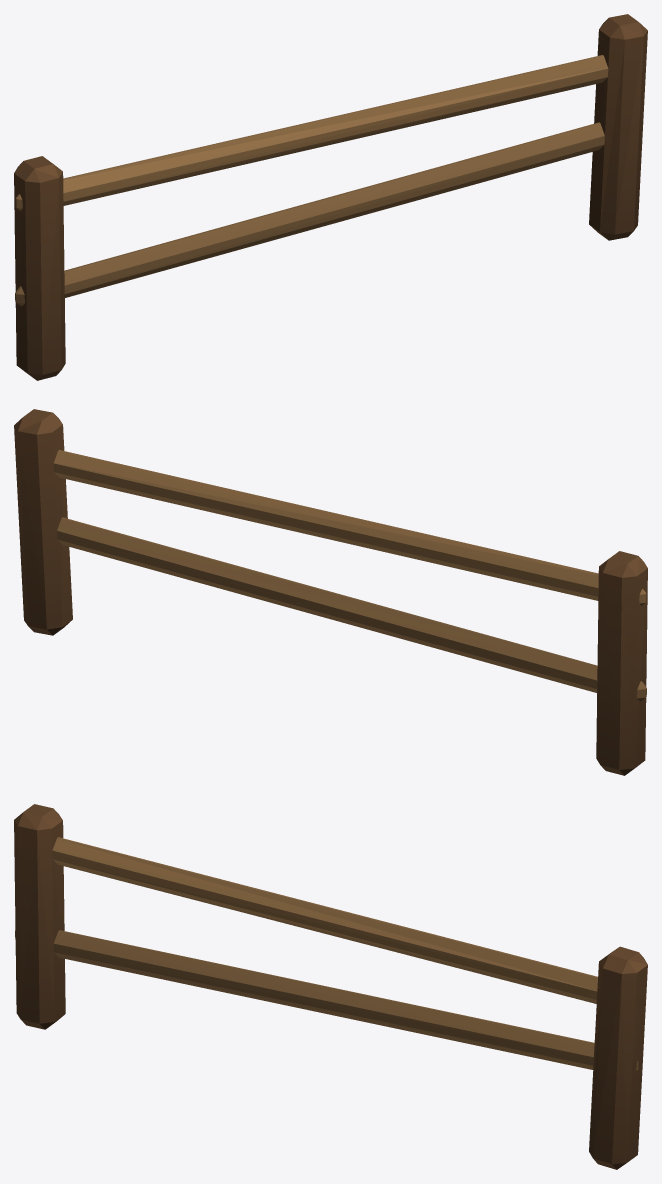
File: fence.glb
The picture shows the model from 3 angles, top to bottom: view 1: azimuth 30°, elevation 25°; view 2: azimuth 150°, elevation 25°; view 3: azimuth 330°, elevation 25°; orthographic projection.
Visible parts, largest first — view 1: fence; view 2: fence; view 3: fence.
Boxes of the visible parts, x1=… form: fence: x1=14, y1=14, x2=647, y2=380; fence: x1=14, y1=409, x2=647, y2=775; fence: x1=14, y1=804, x2=647, y2=1169.
Bounding box in the file's own units: 0.9871 × 0.3212 × 0.06.
